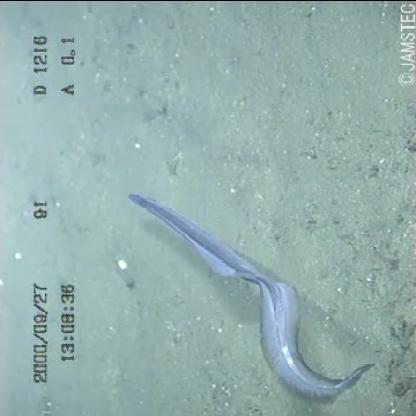Bio: (123, 190, 379, 408)
